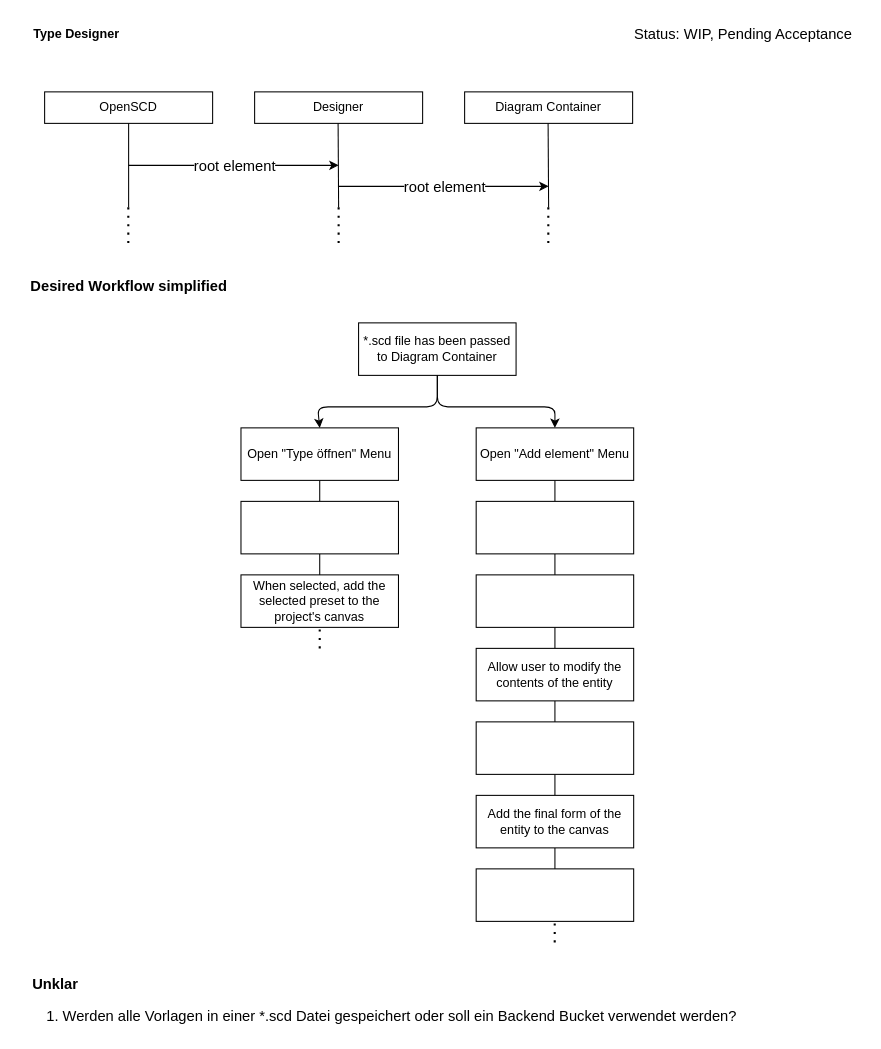
This 881x1049 diagram has some shape labels left out. The shapes that lost their labels are listed below. From the top down, each one's centre as x and y in pixels, then its label:
pixel 319 527: Show a scrollable modal window with presets
pixel 554 527: Show a dropdown with available entities to add
pixel 554 600: Show a modification panel on the right hand side
pixel 554 747: Press "[entity name] hinzufügen" button
pixel 554 894: Save progress to the *.scv file, close the side panel
